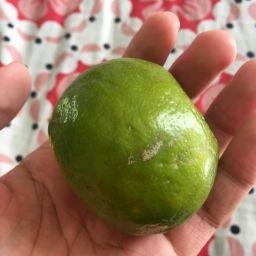Unripe: (47, 58, 221, 235)
